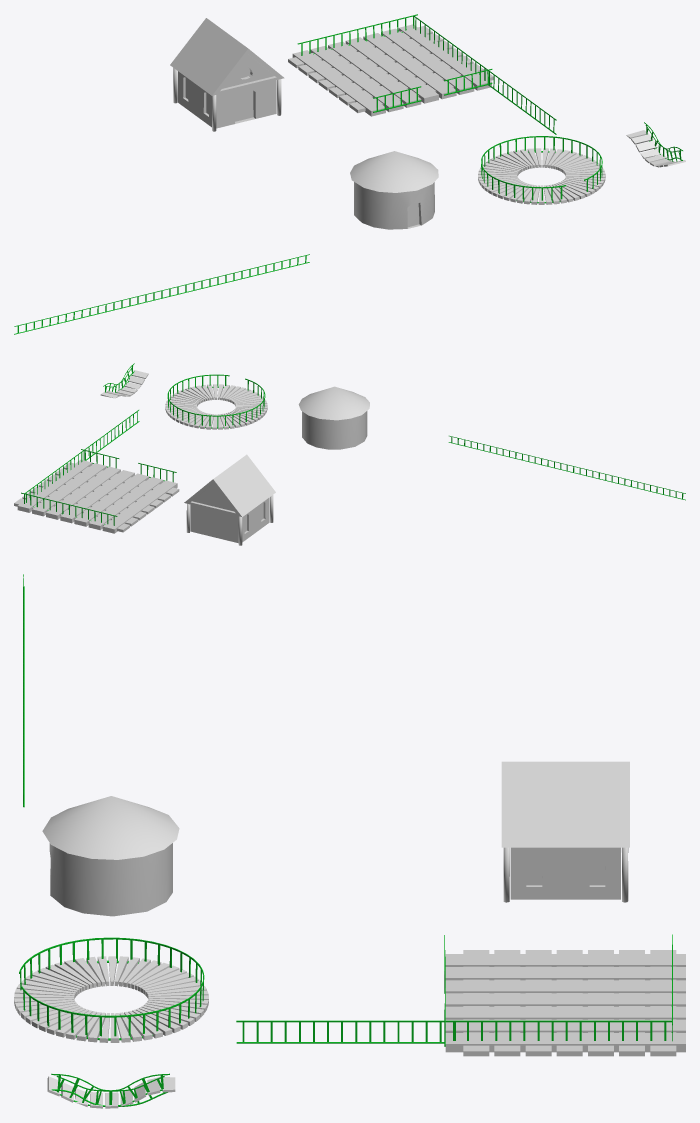
The model's file is j_domek_kwadrat.fbx.
The picture shows the model from 3 angles, top to bottom: view 1: azimuth 30°, elevation 25°; view 2: azimuth 150°, elevation 25°; view 3: azimuth 270°, elevation 25°; orthographic projection. The views are drawn at different scales.
Visible parts, largest first — view 1: Cube.002, Cube.001, spiecie.001, Cone, spiecie.003, spiecie.005, deska.004, spiecie.006; view 2: Cube.002, Cube.001, spiecie.001, Cone, spiecie.003, spiecie.005, deska.004, spiecie.006; view 3: Cube.002, Cube.001, spiecie.001, Cone, spiecie.005, deska.004, spiecie.004.
Boxes of the visible parts, x1,y1,x2,y2 form: Cube.002: (288,24,493,116); Cube.001: (170,18,284,131); spiecie.001: (478,136,605,204); Cone: (350,151,438,229); spiecie.003: (14,254,309,334); spiecie.005: (413,15,556,134); deska.004: (626,130,685,167); spiecie.006: (297,14,417,55); Cube.002: (14,459,179,533); Cube.001: (184,454,275,545); spiecie.001: (165,374,267,429); Cone: (298,386,369,449); spiecie.003: (448,435,685,500); spiecie.005: (24,410,139,502); deska.004: (100,370,148,398); spiecie.006: (21,492,117,525); Cube.002: (445,950,685,1056); Cube.001: (501,761,629,902); spiecie.001: (14,937,208,1042); Cone: (42,796,179,916); spiecie.005: (236,1020,672,1043); deska.004: (47,1076,175,1108); spiecie.004: (51,1073,169,1106).
Bounding box in the file's own units: 3692 × 448 × 2070.
